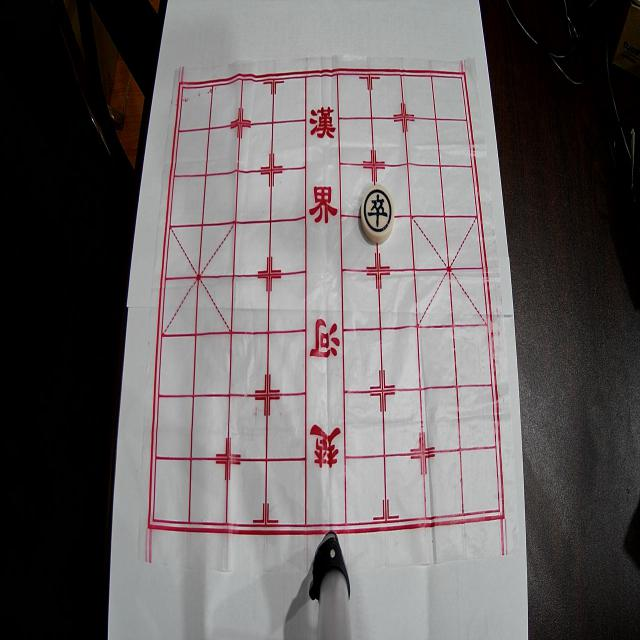black-soldier: (360, 184, 394, 243)
